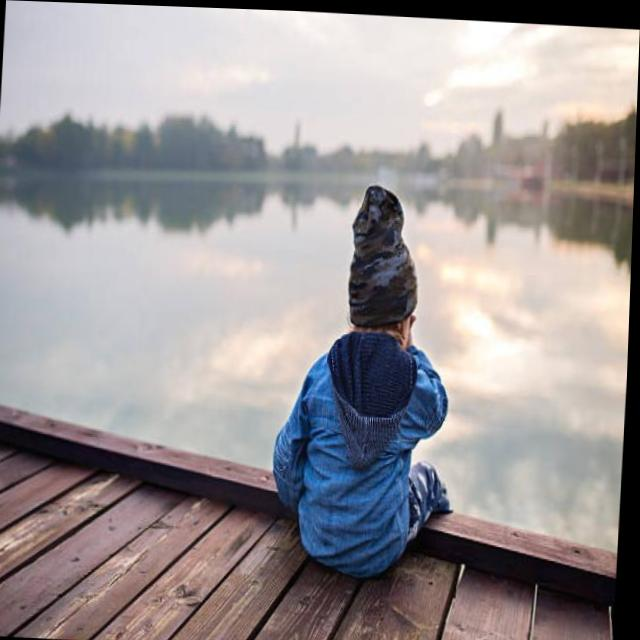no helmet: (337, 182, 435, 346)
